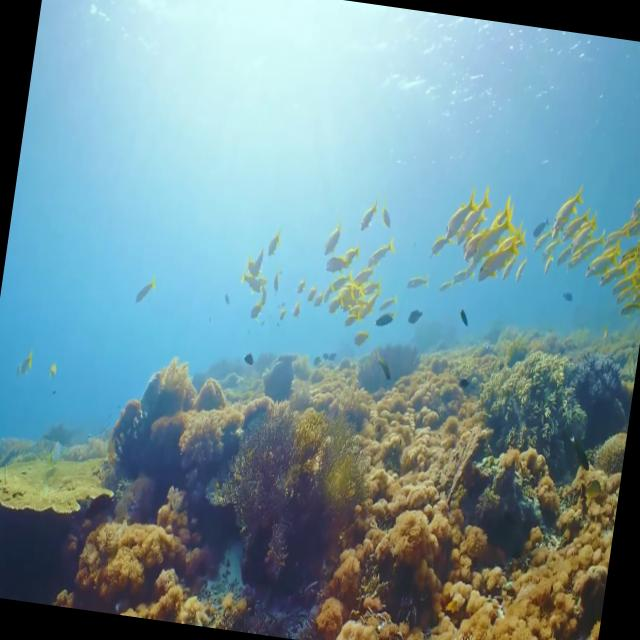fish: (466, 202, 514, 270), (474, 230, 520, 286), (454, 188, 492, 252), (439, 191, 475, 247), (357, 278, 386, 326), (353, 195, 384, 238), (558, 208, 592, 247), (574, 230, 606, 268), (368, 348, 400, 386), (582, 244, 616, 279), (462, 218, 488, 262), (321, 243, 351, 280), (598, 258, 630, 292), (322, 219, 348, 260), (552, 190, 580, 228), (400, 301, 430, 334), (365, 236, 394, 269), (602, 223, 634, 251), (262, 223, 284, 263), (236, 268, 264, 298), (613, 278, 640, 308), (532, 228, 554, 259), (344, 239, 362, 275), (529, 214, 550, 242), (407, 264, 431, 288), (617, 298, 640, 323), (372, 308, 394, 334), (454, 305, 474, 333), (332, 270, 354, 294), (622, 245, 640, 273), (269, 270, 284, 300), (248, 300, 264, 326), (628, 207, 640, 238), (304, 280, 319, 304), (631, 184, 640, 220), (559, 287, 575, 307), (633, 224, 640, 249)
